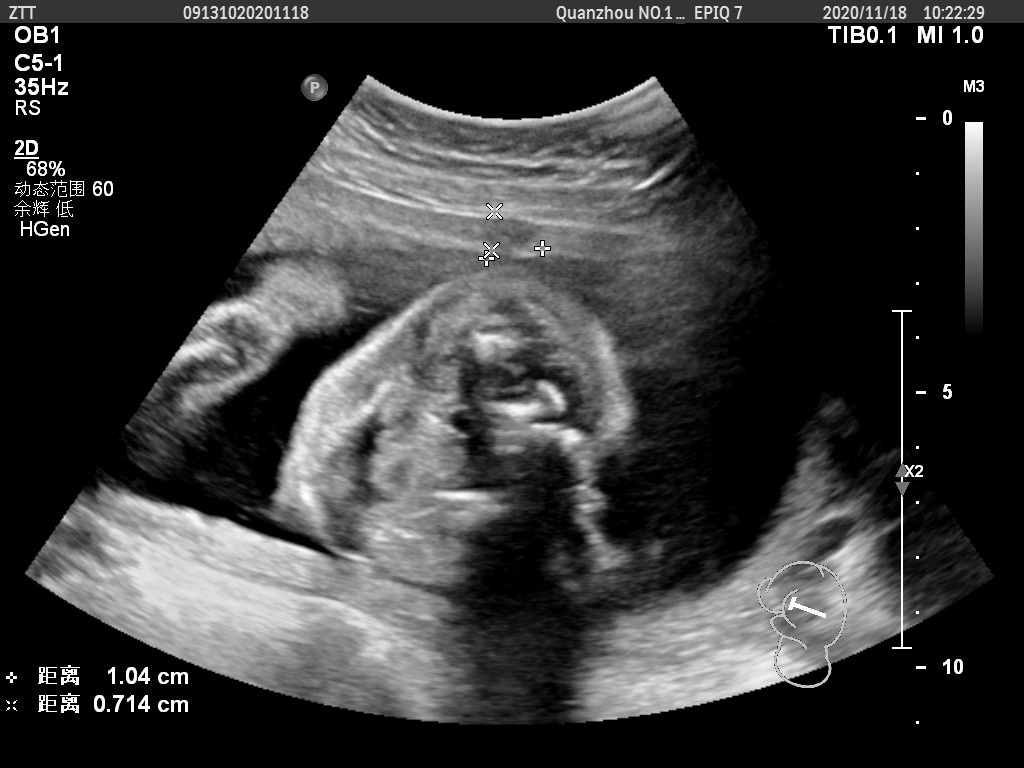肌瘤: (485, 214, 539, 251)
